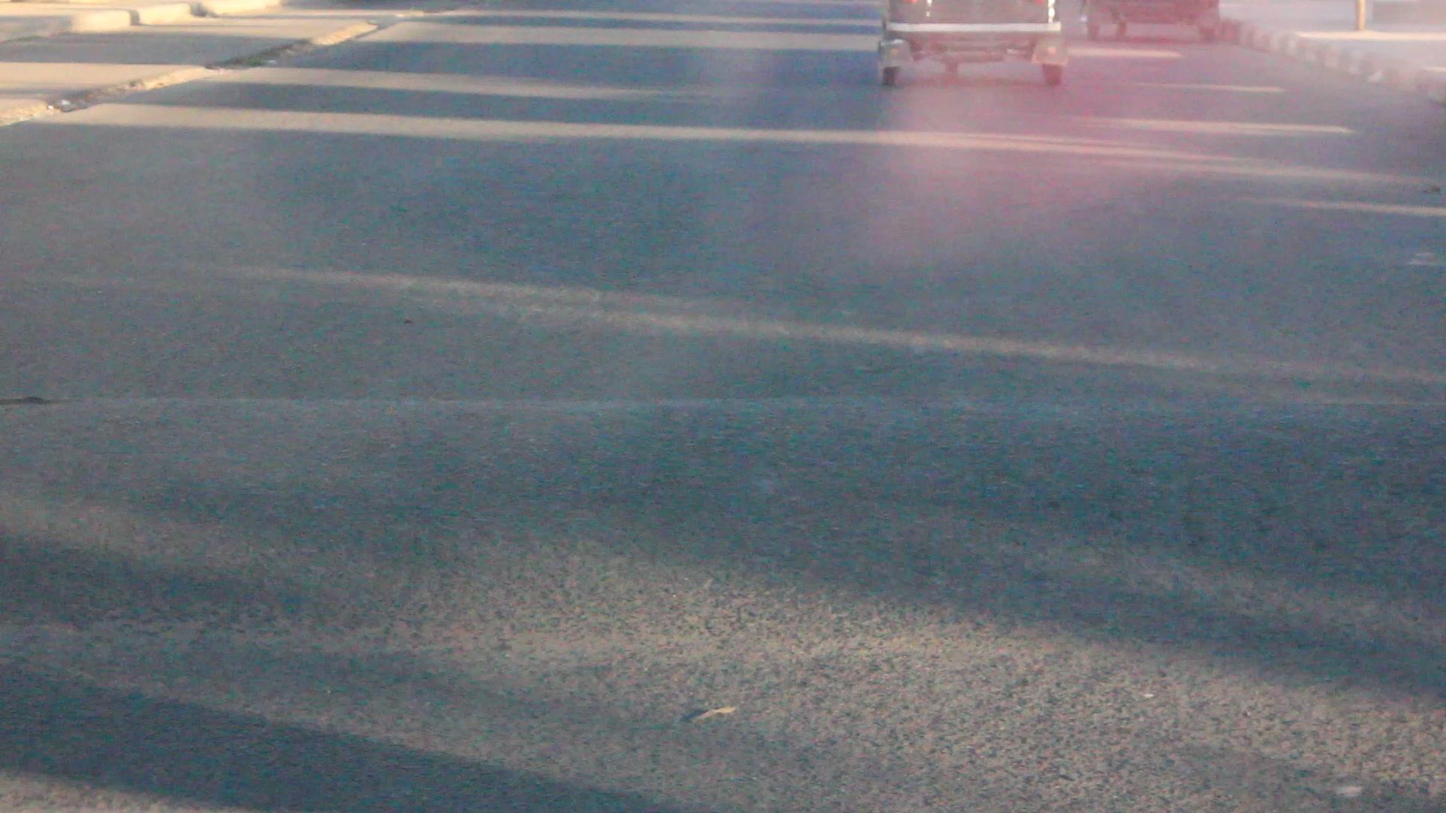Bump: (0, 401, 1446, 638)
